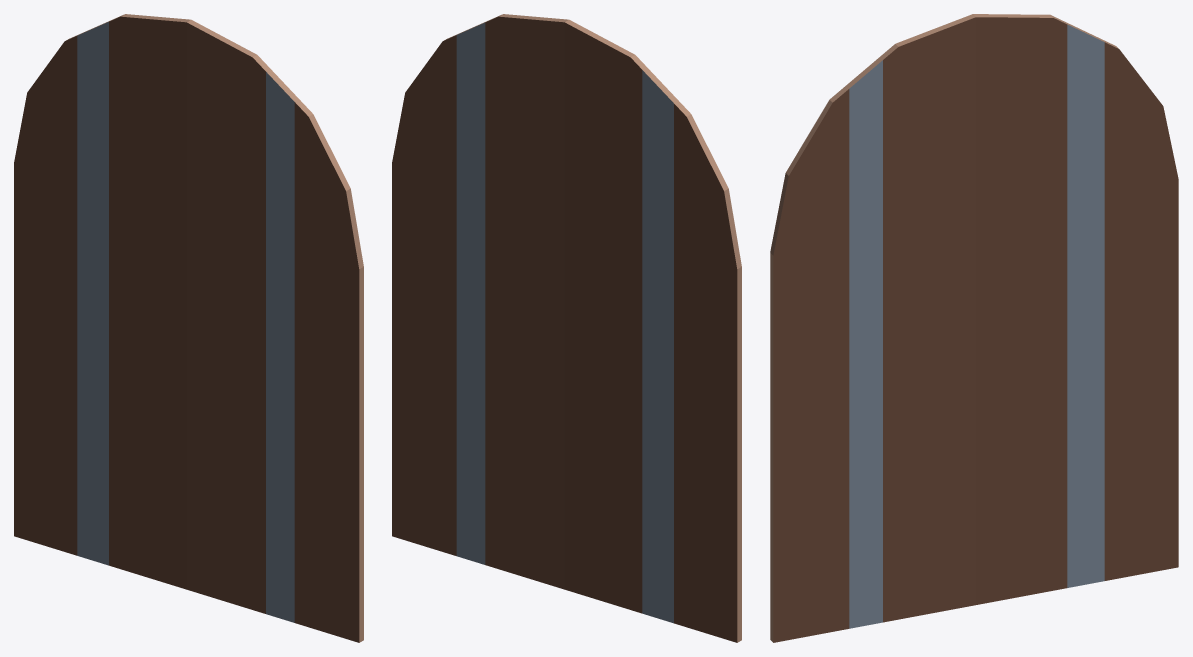
The model's file is Tor.fbx.
3 views of the same model, side by side, from view 1: azimuth 30°, elevation 25°; view 2: azimuth 210°, elevation 25°; view 3: azimuth 270°, elevation 25° (orthographic). The views are drawn at different scales.
Parts seen in each view (by area): view 1: TürR, TürL; view 2: TürL, TürR; view 3: TürR, TürL.
Part boxes in pixels (box(x1,y1,x2,y2)): TürR: box(186, 19, 363, 642); TürL: box(14, 14, 190, 589); TürL: box(564, 19, 741, 642); TürR: box(392, 14, 568, 589); TürR: box(770, 14, 975, 642); TürL: box(973, 14, 1178, 604).
Size of the model in its own units: 311 by 1083 by 682.
